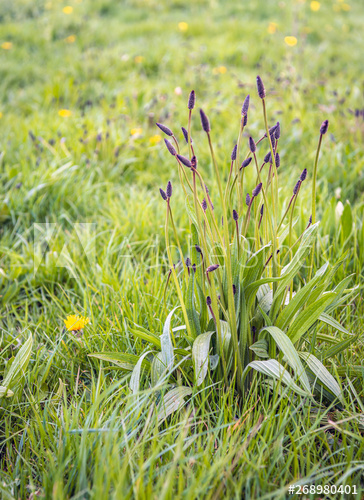buckhorn plantain: (123, 69, 348, 412)
